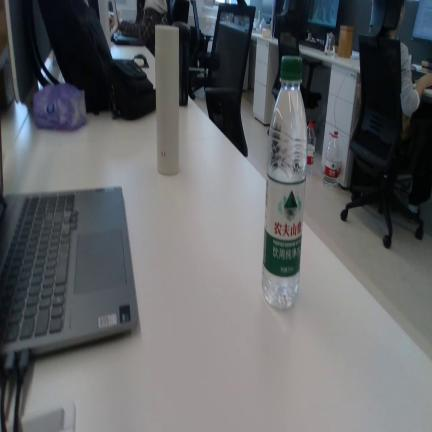bottle: (262, 56, 307, 310), (322, 130, 341, 187)
